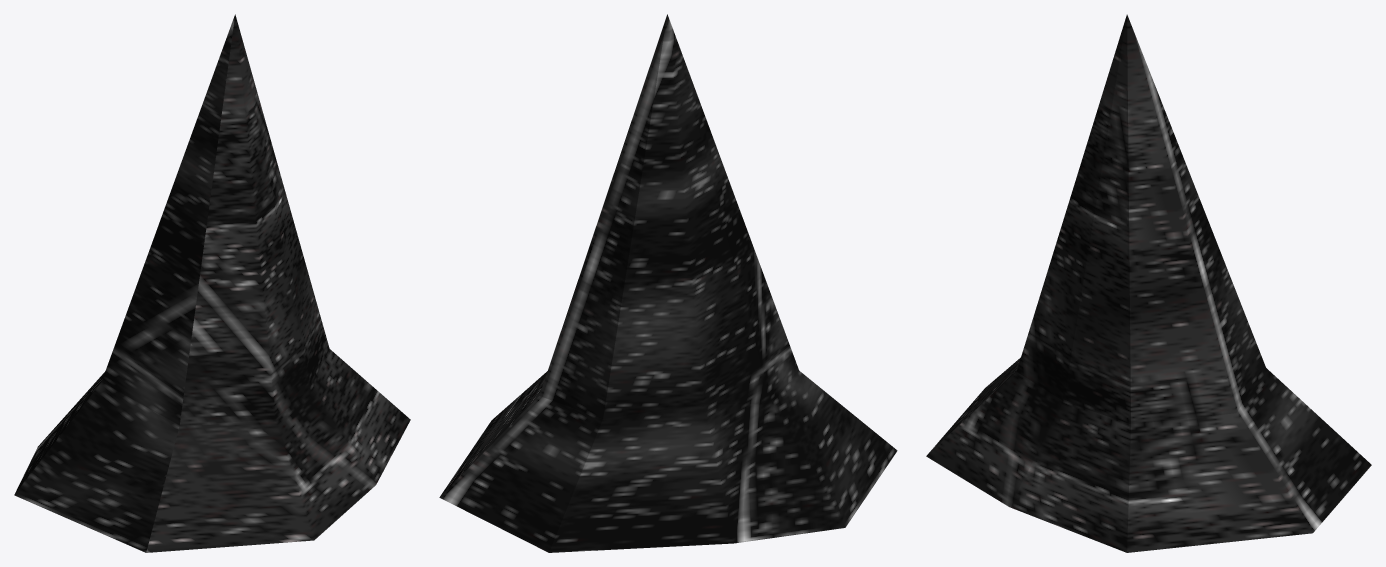
File: Erker_Dach [Dachpappe]_1369.glb
3 renders of one model, left to right at view 1: azimuth 30°, elevation 25°; view 2: azimuth 150°, elevation 25°; view 3: azimuth 270°, elevation 25°, orthographic.
Visible parts, largest first — view 1: pConeShape1; view 2: pConeShape1; view 3: pConeShape1.
Boxes of the visible parts, left/top/right/bottom form: pConeShape1: left=14, top=14, right=410, bottom=552; pConeShape1: left=439, top=14, right=897, bottom=552; pConeShape1: left=926, top=14, right=1371, bottom=552.
Bounding box in the file's own units: 0.5379 × 0.6149 × 0.5491.
Materials: 1 (1 with a texture image).
